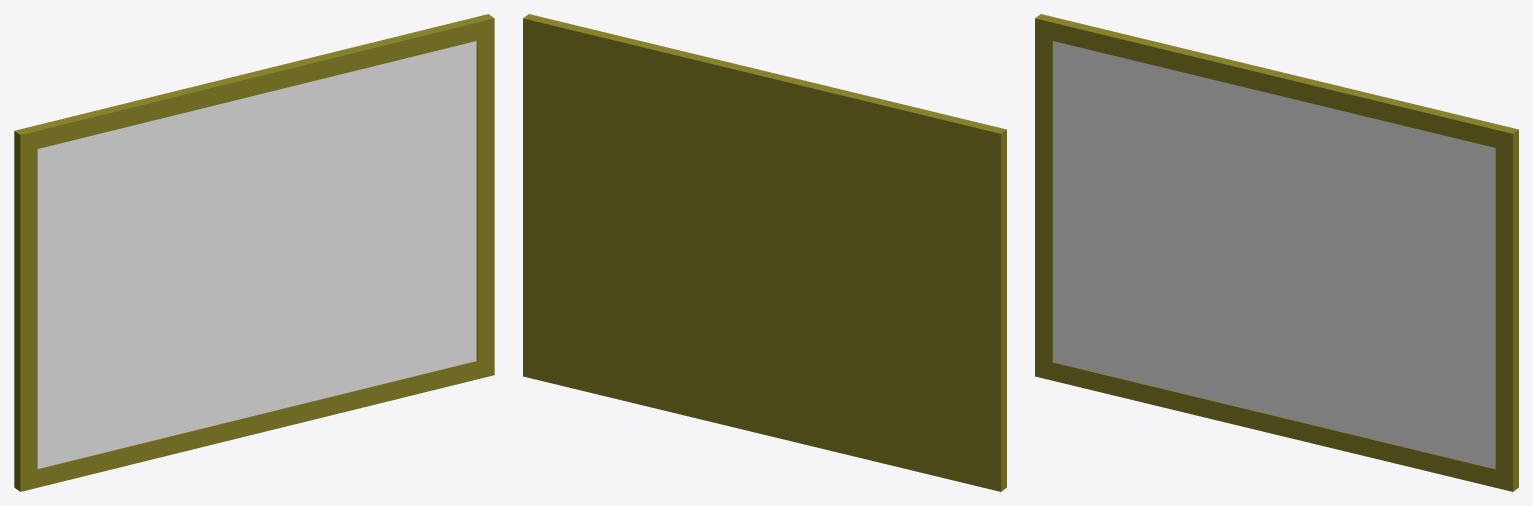
Rendered from smallpainting_nice_1.FBX.
The picture shows the model from 3 angles, left to right: view 1: azimuth 30°, elevation 25°; view 2: azimuth 150°, elevation 25°; view 3: azimuth 330°, elevation 25°; orthographic projection.
Parts seen in each view (by area): view 1: painting1_nice_2; view 2: painting1_nice_2; view 3: painting1_nice_2.
Part boxes in pixels (x1,y1,x2,y2): painting1_nice_2: (14, 14, 494, 491); painting1_nice_2: (523, 14, 1006, 491); painting1_nice_2: (1035, 14, 1518, 491).
Size of the model in its own units: 83.53 by 2.17 by 59.93.
